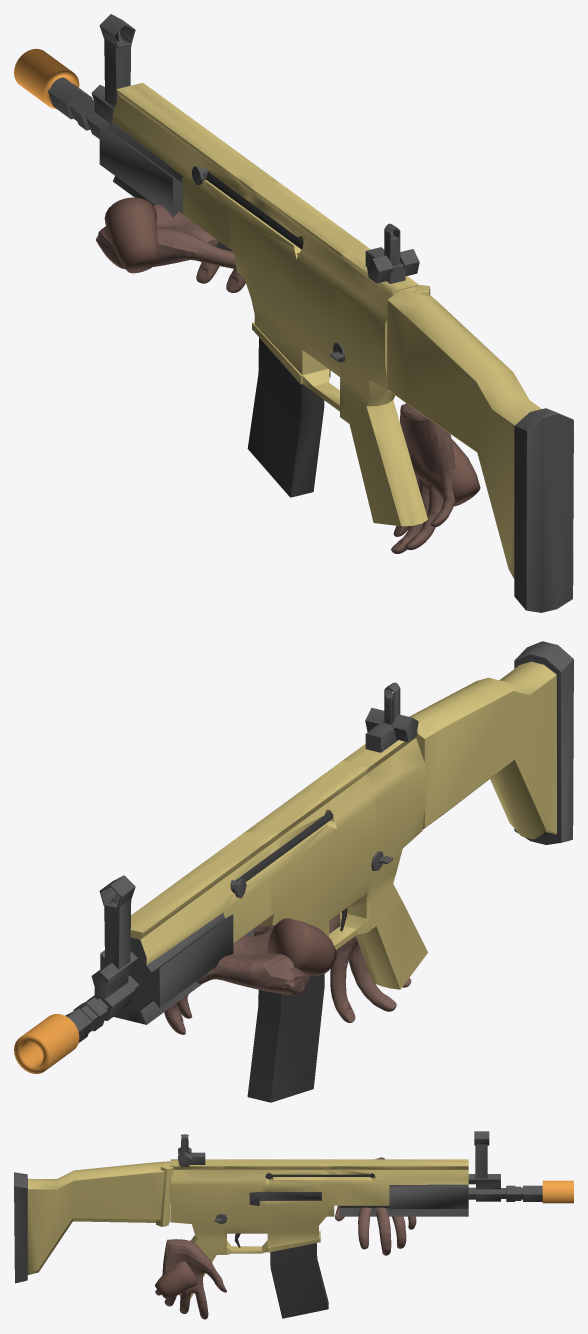
Rendered from ranger.glb.
3 renders of one model, top to bottom at view 1: azimuth 30°, elevation 25°; view 2: azimuth 150°, elevation 25°; view 3: azimuth 270°, elevation 25°, orthographic. The views are drawn at different scales.
Parts seen in each view (by area): view 1: AUTHORED scarl WeaponBodyGeometry, AUTHORED scarl StockGeometry, AUTHORED scarl MagazineGeometry, ranger ONE_HAND RIGHT REAL ANATOMICAL CC0 HAND, ranger TWO_HAND LEFT REAL ANATOMICAL CC0 HAND, ranger TWO_HAND LEFT short wrist stub, AUTHORED scarl FrontIronSight, AUTHORED scarl IronSightGeometry, AIRSOFT_ORANGE_TIP_07 - fitted hollow muzzle sleeve, ranger ONE_HAND RIGHT short wrist stub, AUTHORED scarl ChargingHandleGeometry; view 2: AUTHORED scarl WeaponBodyGeometry, AUTHORED scarl StockGeometry, AUTHORED scarl MagazineGeometry, ranger TWO_HAND LEFT REAL ANATOMICAL CC0 HAND, ranger TWO_HAND LEFT short wrist stub, ranger ONE_HAND RIGHT REAL ANATOMICAL CC0 HAND, AIRSOFT_ORANGE_TIP_07 - fitted hollow muzzle sleeve, AUTHORED scarl FrontIronSight, AUTHORED scarl IronSightGeometry, AUTHORED scarl ChargingHandleGeometry; view 3: AUTHORED scarl WeaponBodyGeometry, AUTHORED scarl StockGeometry, AUTHORED scarl MagazineGeometry, ranger ONE_HAND RIGHT REAL ANATOMICAL CC0 HAND, ranger TWO_HAND LEFT REAL ANATOMICAL CC0 HAND, ranger ONE_HAND RIGHT short wrist stub, AIRSOFT_ORANGE_TIP_07 - fitted hollow muzzle sleeve, AUTHORED scarl FrontIronSight, AUTHORED scarl IronSightGeometry, AUTHORED scarl BoltGeometry.
Part boxes in pixels (<box>): AUTHORED scarl WeaponBodyGeometry: <box>48,77,427,526</box>; AUTHORED scarl StockGeometry: <box>387,285,573,612</box>; AUTHORED scarl MagazineGeometry: <box>247,337,324,497</box>; ranger ONE_HAND RIGHT REAL ANATOMICAL CC0 HAND: <box>391,403,455,553</box>; ranger TWO_HAND LEFT REAL ANATOMICAL CC0 HAND: <box>96,204,245,292</box>; ranger TWO_HAND LEFT short wrist stub: <box>104,197,158,273</box>; AUTHORED scarl FrontIronSight: <box>99,14,135,107</box>; AUTHORED scarl IronSightGeometry: <box>365,223,419,283</box>; AIRSOFT_ORANGE_TIP_07 - fitted hollow muzzle sleeve: <box>14,48,79,108</box>; ranger ONE_HAND RIGHT short wrist stub: <box>410,439,480,506</box>; AUTHORED scarl ChargingHandleGeometry: <box>191,166,303,249</box>; AUTHORED scarl WeaponBodyGeometry: <box>65,730,427,1043</box>; AUTHORED scarl StockGeometry: <box>409,641,573,844</box>; AUTHORED scarl MagazineGeometry: <box>247,974,324,1102</box>; ranger TWO_HAND LEFT REAL ANATOMICAL CC0 HAND: <box>164,925,311,1034</box>; ranger TWO_HAND LEFT short wrist stub: <box>267,918,336,975</box>; ranger ONE_HAND RIGHT REAL ANATOMICAL CC0 HAND: <box>329,913,411,1022</box>; AIRSOFT_ORANGE_TIP_07 - fitted hollow muzzle sleeve: <box>14,1013,79,1073</box>; AUTHORED scarl FrontIronSight: <box>99,875,135,969</box>; AUTHORED scarl IronSightGeometry: <box>365,682,418,752</box>; AUTHORED scarl ChargingHandleGeometry: <box>230,810,332,898</box>; AUTHORED scarl WeaponBodyGeometry: <box>170,1159,542,1298</box>; AUTHORED scarl StockGeometry: <box>14,1161,173,1283</box>; AUTHORED scarl MagazineGeometry: <box>270,1243,328,1318</box>; ranger ONE_HAND RIGHT REAL ANATOMICAL CC0 HAND: <box>155,1239,226,1319</box>; ranger TWO_HAND LEFT REAL ANATOMICAL CC0 HAND: <box>335,1205,416,1255</box>; ranger ONE_HAND RIGHT short wrist stub: <box>155,1261,197,1299</box>; AIRSOFT_ORANGE_TIP_07 - fitted hollow muzzle sleeve: <box>542,1180,573,1203</box>; AUTHORED scarl FrontIronSight: <box>474,1131,489,1178</box>; AUTHORED scarl IronSightGeometry: <box>178,1134,205,1166</box>; AUTHORED scarl BoltGeometry: <box>259,1192,321,1199</box>.
Bounding box in the file's own units: 0.2274 × 0.4291 × 1.18.
